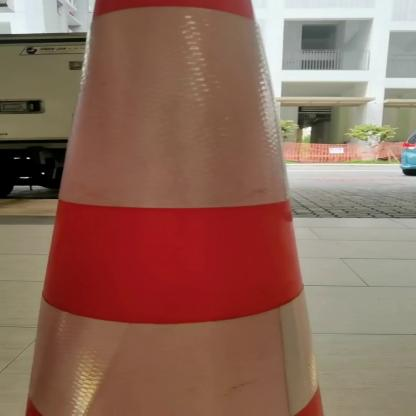cone: (12, 0, 334, 416)
